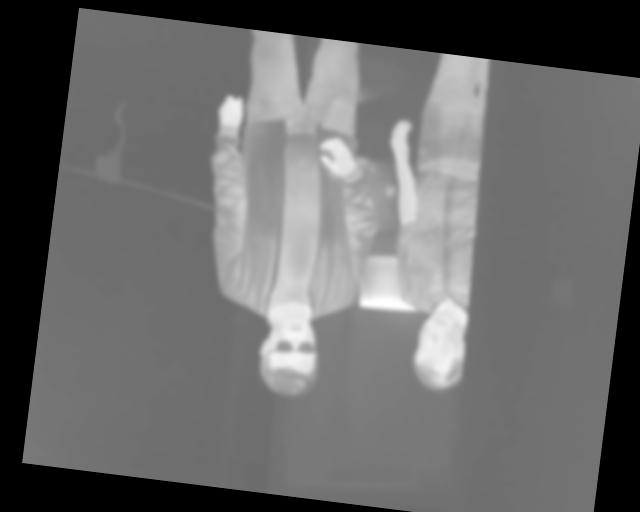face: (254, 310, 324, 400), (410, 310, 470, 395)
